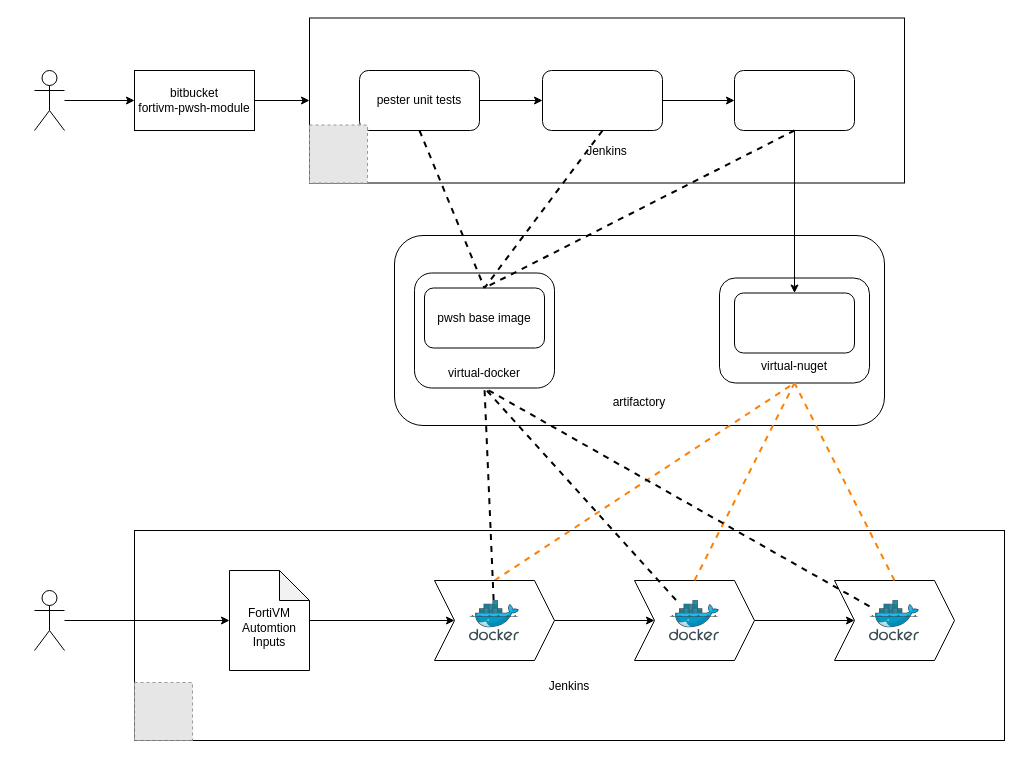
The diagram is 1022 pixels wide and 758 high, and some of its shapes have lost their labels. Grey dashed boxes stand in for pictures. The shapes that lost their labels are listed below. From the top down, each one's centre as x and y in pixels, then its label:
the point at 49,100: Cloud Team
the point at 602,100: code review
the point at 794,100: publish module
the point at 794,322: fortivmdeployment nuget package
the point at 49,620: Operator
